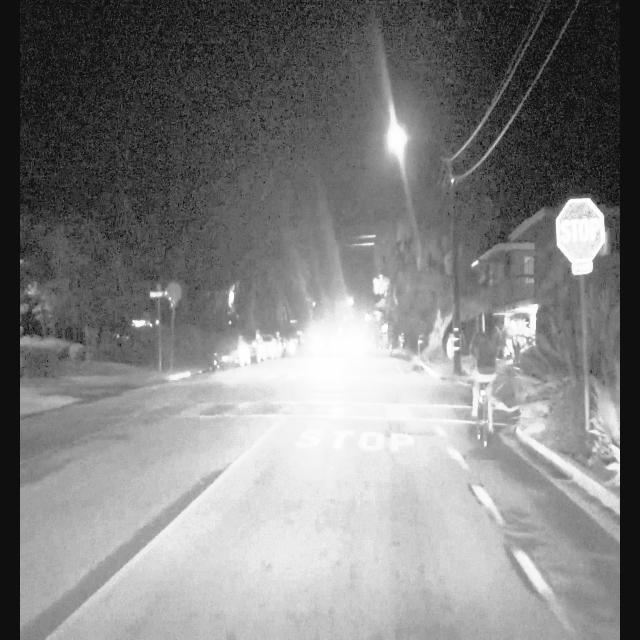Sign: (556, 199, 606, 274)
